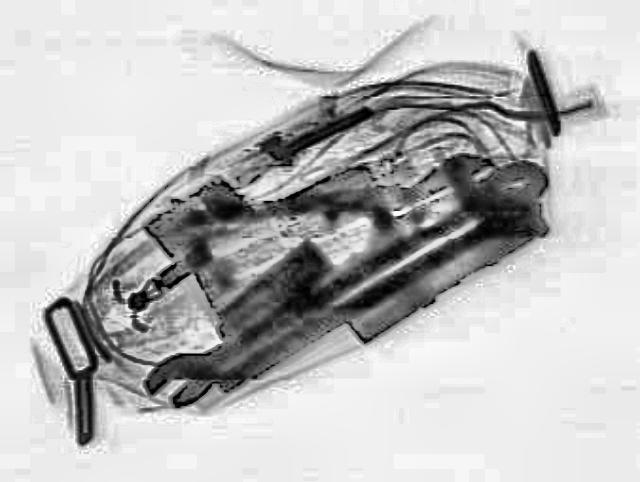Wrench: (124, 146, 560, 414)
